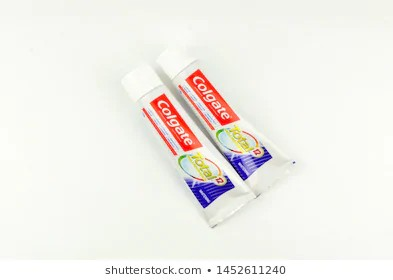colgate-total-150gm: (153, 28, 305, 193), (116, 55, 258, 230)
